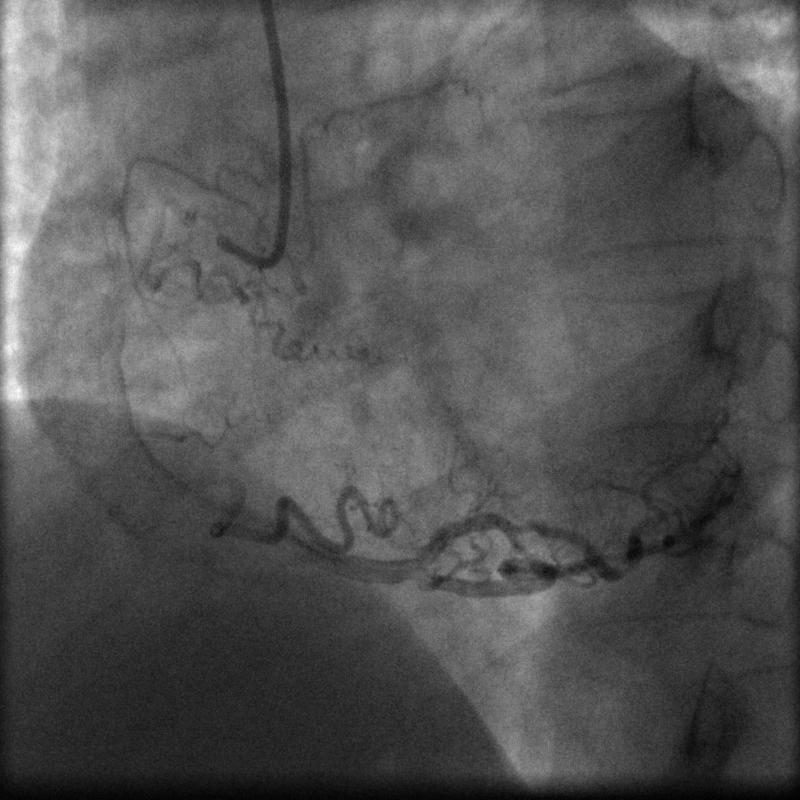Stenosis: (495, 505, 539, 542)
